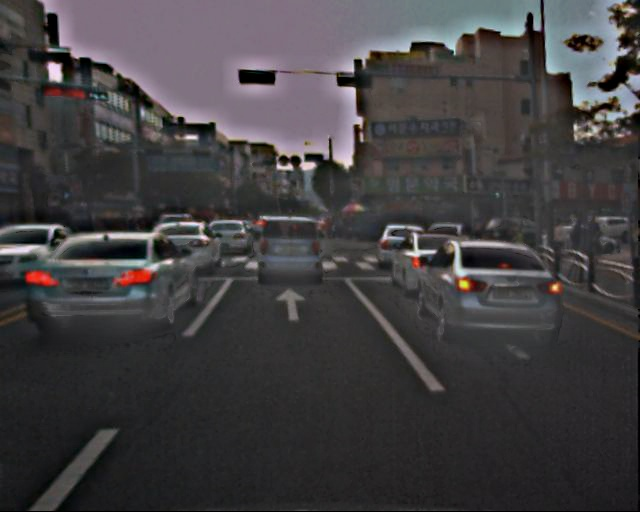person: (561, 210, 590, 280), (546, 217, 569, 273)
